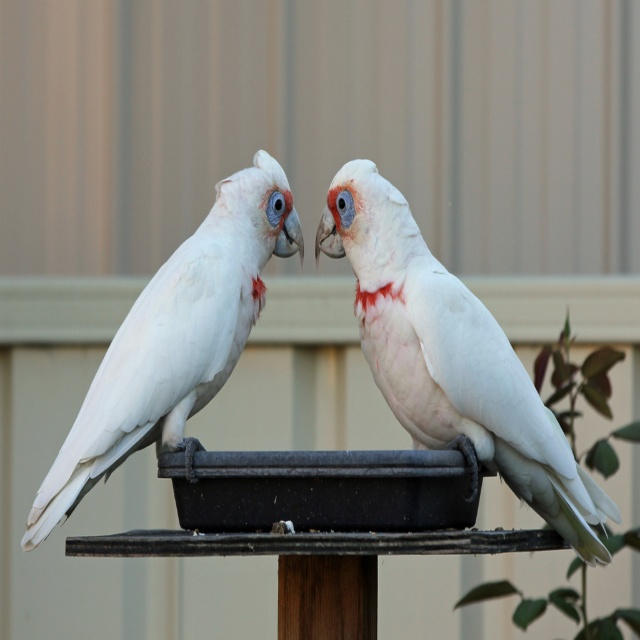Parrot: (315, 159, 622, 569), (20, 149, 304, 554)
